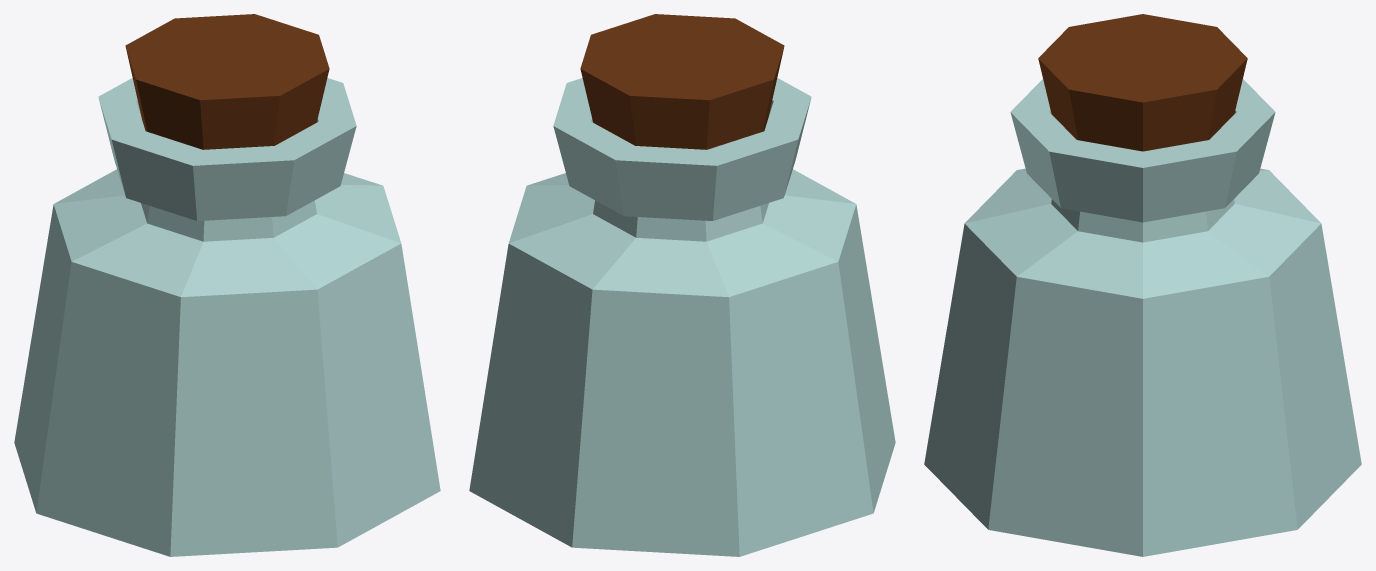
File: FlameBottle.fbx
The picture shows the model from 3 angles, left to right: view 1: azimuth 30°, elevation 25°; view 2: azimuth 150°, elevation 25°; view 3: azimuth 270°, elevation 25°; orthographic projection.
Parts seen in each view (by area): view 1: FlameContainer; view 2: FlameContainer; view 3: FlameContainer.
Part boxes in pixels (box(x1,y1,x2,y2)): FlameContainer: box(14, 14, 440, 556); FlameContainer: box(469, 14, 895, 556); FlameContainer: box(924, 14, 1361, 556).
Bounding box in the file's own units: 122 × 125 × 122.
